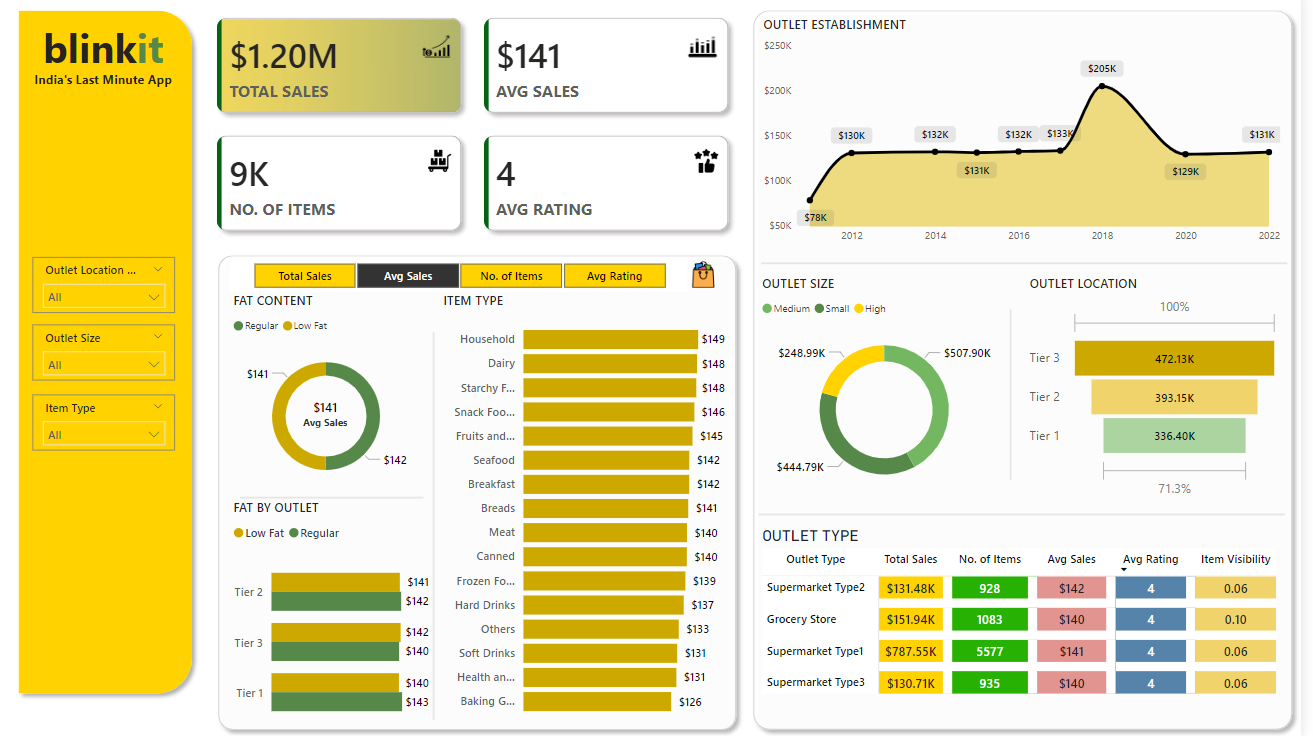

The dashboard page shown, as its layout file describes it:
{"tool":"powerbi","page":{"name":"Page 1","canvas":[1400,800],"ordinal":0},"visuals":[{"type":"shape","box":[16.5,10.5,204.1,750.4],"z":0},{"type":"cardVisual","fields":{"Data":["BlinkIT-Grocery-Data.Total Sales","BlinkIT-Grocery-Data.Avg Sales","BlinkIT-Grocery-Data.No. of Items","BlinkIT-Grocery-Data.Avg Rating"]},"box":[220.6,10.5,583.8,262.7],"z":1000},{"type":"textbox","box":[29.5,25.5,172.9,67],"z":2000},{"type":"shape","box":[231.1,273.2,573.3,526.8],"z":3000},{"type":"slicer","fields":{"Values":["Metrics.Metrics"]},"box":[252.1,283.7,490.8,37.5],"z":4000},{"type":"donutChart","title":"FAT CONTENT","fields":{"Y":["BlinkIT-Grocery-Data.Avg Sales"],"Category":["BlinkIT-Grocery-Data.Item Fat Content"]},"box":[250.7,321.7,209.1,221.2],"z":5000},{"type":"cardVisual","fields":{"Data":["BlinkIT-Grocery-Data.Avg Sales"]},"box":[297.6,416.9,113.9,69.7],"z":6000},{"type":"clusteredBarChart","title":"FAT BY OUTLET","fields":{"Y":["BlinkIT-Grocery-Data.Avg Sales"],"Category":["BlinkIT-Grocery-Data.Outlet Location Type"],"Series":["BlinkIT-Grocery-Data.Item Fat Content"]},"box":[250.7,542.9,219.8,257.4],"z":7000},{"type":"shape","box":[262.7,529.8,196.6,25.5],"z":8000},{"type":"shape","box":[465.3,364.7,10.5,415.7],"z":9000},{"type":"barChart","title":"ITEM TYPE","fields":{"Y":["BlinkIT-Grocery-Data.Avg Sales"],"Category":["BlinkIT-Grocery-Data.Item Type"]},"box":[475.8,321.2,312.2,465.3],"z":10000},{"type":"image","box":[732.4,283.7,55.5,37.5],"z":11000},{"type":"shape","box":[804.5,10.5,595.8,789.5],"z":12000},{"type":"lineChart","title":"OUTLET ESTABLISHMENT","fields":{"Y":["BlinkIT-Grocery-Data.Total Sales"],"Category":["BlinkIT-Grocery-Data.Outlet Establishment Year"]},"box":[819,25.5,564.3,253.4],"z":13000},{"type":"shape","box":[821.7,278.8,564.3,24.1],"z":14000},{"type":"donutChart","title":"OUTLET SIZE","fields":{"Y":["BlinkIT-Grocery-Data.Total Sales"],"Category":["BlinkIT-Grocery-Data.Outlet Size"]},"box":[817.7,303,272.1,245.3],"z":15000},{"type":"textbox","box":[29.5,79.1,172.9,42.9],"z":16000},{"type":"shape","box":[1087.1,340.5,4,182.3],"z":17000},{"type":"funnel","title":"OUTLET LOCATION","fields":{"Y":["Sum(BlinkIT-Grocery-Data.Sales)"],"Category":["BlinkIT-Grocery-Data.Outlet Location Type"]},"box":[1104.6,303,277.5,245.3],"z":18000},{"type":"shape","box":[819,548.3,564.3,24.1],"z":19000},{"type":"pivotTable","title":"OUTLET TYPE","fields":{"Rows":["BlinkIT-Grocery-Data.Outlet Type"],"Values":["BlinkIT-Grocery-Data.Total Sales","BlinkIT-Grocery-Data.No. of Items","BlinkIT-Grocery-Data.Avg Sales","BlinkIT-Grocery-Data.Avg Rating","Avg(BlinkIT-Grocery-Data.Item Visibility)"]},"box":[817.7,572.4,564.3,214.5],"z":20000},{"type":"slicer","fields":{"Values":["BlinkIT-Grocery-Data.Outlet Location Type"]},"box":[40.2,284.2,152.8,60.3],"z":21000},{"type":"slicer","fields":{"Values":["BlinkIT-Grocery-Data.Outlet Size"]},"box":[40.2,356.6,152.8,60.3],"z":22000},{"type":"slicer","fields":{"Values":["BlinkIT-Grocery-Data.Item Type"]},"box":[40.2,431.6,152.8,60.3],"z":23000}]}

Visuals, with their boxes in screenshot pixels (x1, y1, x2, y2), scaled from the page's 1400x800 canvas onto the 1313x736 screenshot:
shape: (15, 10, 207, 700)
cardVisual - BlinkIT-Grocery-Data.Total Sales x BlinkIT-Grocery-Data.Avg Sales: (207, 10, 754, 251)
textbox: (28, 23, 190, 85)
shape: (217, 251, 754, 735)
slicer - Metrics.Metrics: (236, 261, 697, 296)
"FAT CONTENT" donutChart: (235, 296, 431, 499)
cardVisual - BlinkIT-Grocery-Data.Avg Sales: (279, 384, 386, 448)
"FAT BY OUTLET" clusteredBarChart: (235, 499, 441, 735)
shape: (246, 487, 431, 511)
shape: (436, 336, 446, 718)
"ITEM TYPE" barChart: (446, 296, 739, 724)
image: (687, 261, 739, 296)
shape: (755, 10, 1312, 735)
"OUTLET ESTABLISHMENT" lineChart: (768, 23, 1297, 257)
shape: (771, 256, 1300, 279)
"OUTLET SIZE" donutChart: (767, 279, 1022, 504)
textbox: (28, 73, 190, 112)
shape: (1020, 313, 1023, 481)
"OUTLET LOCATION" funnel: (1036, 279, 1296, 504)
shape: (768, 504, 1297, 527)
"OUTLET TYPE" pivotTable: (767, 527, 1296, 724)
slicer - BlinkIT-Grocery-Data.Outlet Location Type: (38, 261, 181, 317)
slicer - BlinkIT-Grocery-Data.Outlet Size: (38, 328, 181, 384)
slicer - BlinkIT-Grocery-Data.Item Type: (38, 397, 181, 453)
